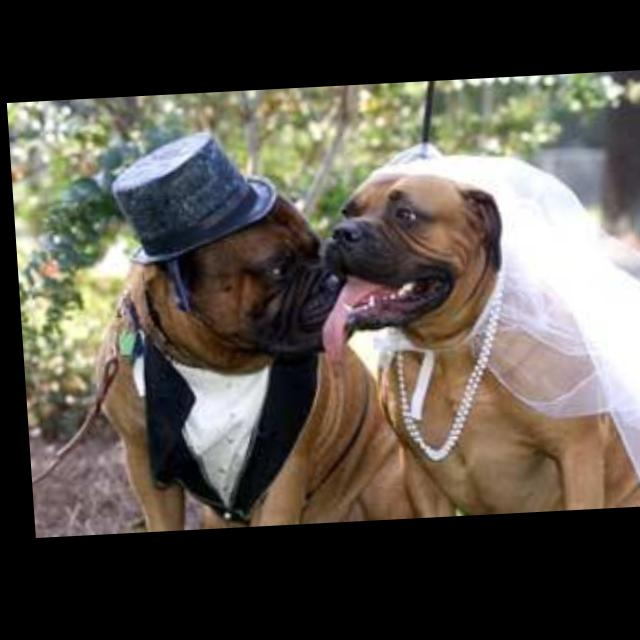bullmastiff: (313, 149, 640, 525), (81, 192, 410, 535)
